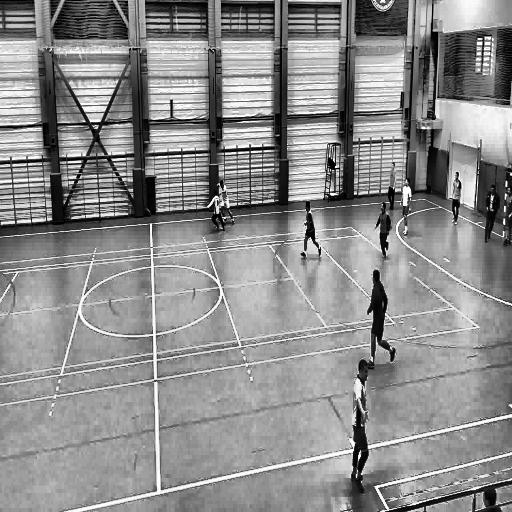ball: (222, 218, 226, 226)
player: (365, 268, 397, 373), (350, 359, 374, 496), (300, 199, 322, 262), (482, 182, 500, 243), (214, 179, 236, 226), (206, 188, 228, 233), (375, 200, 391, 261), (398, 180, 412, 243), (449, 169, 463, 230), (502, 185, 512, 248), (388, 160, 400, 212)
